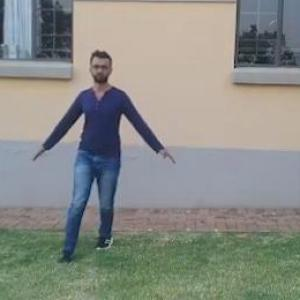land: (26, 54, 168, 240)
